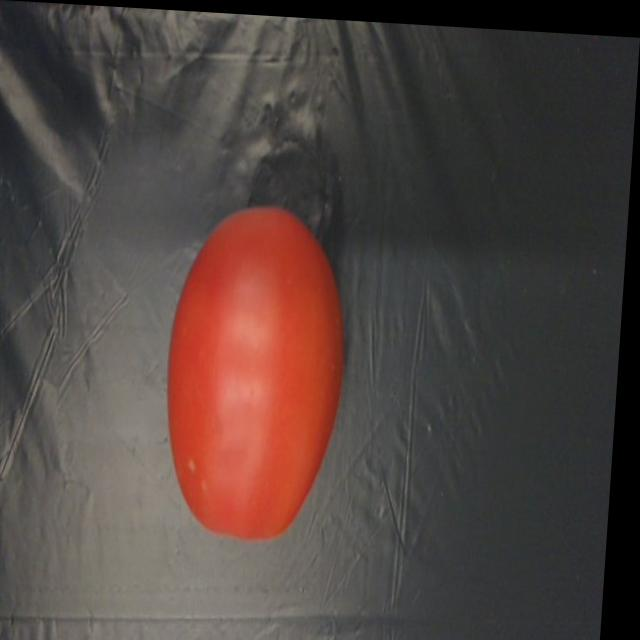kirmizi: (166, 196, 365, 564)
